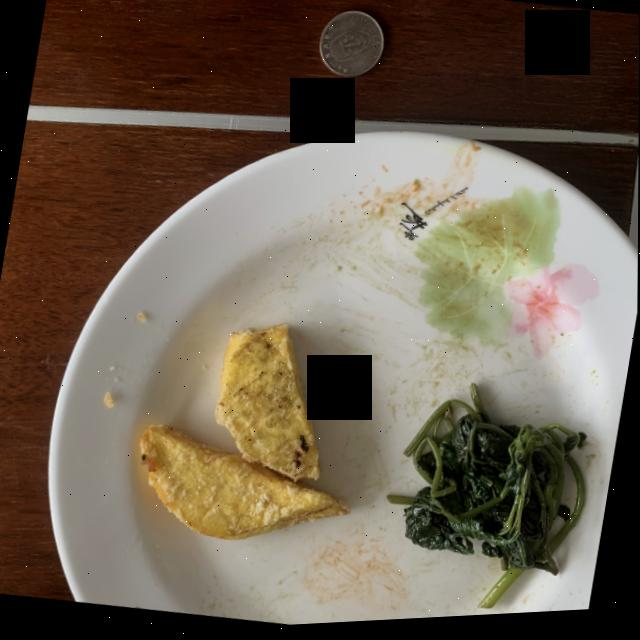coin: (320, 13, 385, 80)
sweet potato leaves: (388, 388, 587, 613)
